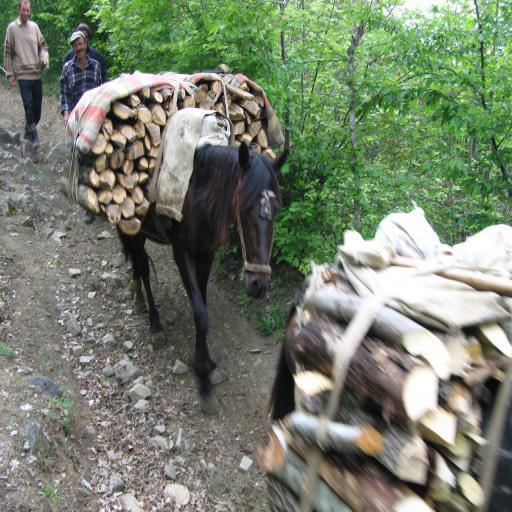horse: (114, 142, 292, 415)
